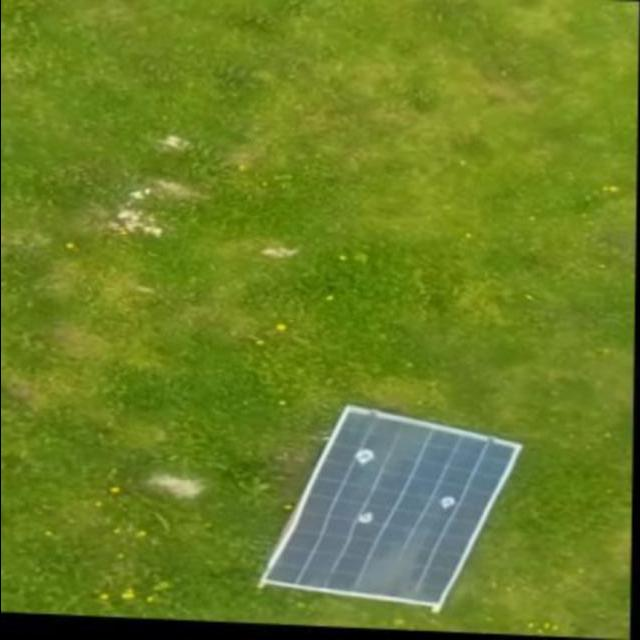soiled: (264, 402, 526, 608)
